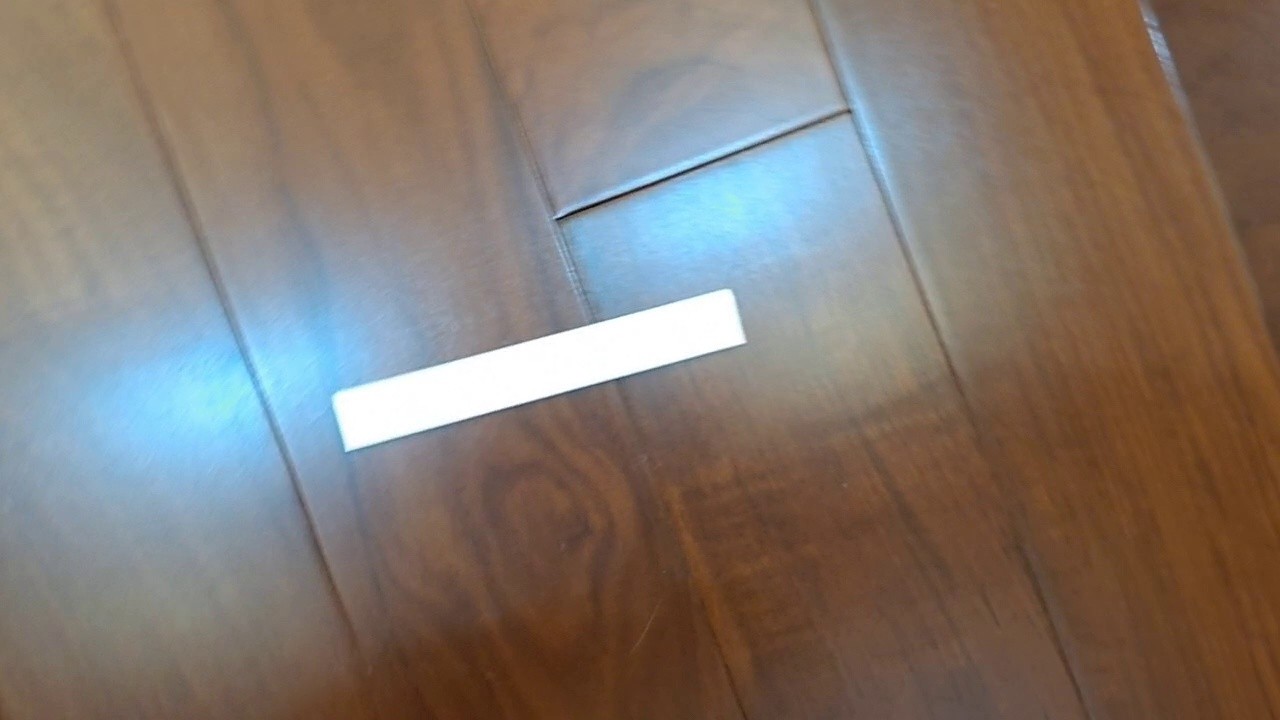ruler: (329, 287, 749, 454)
